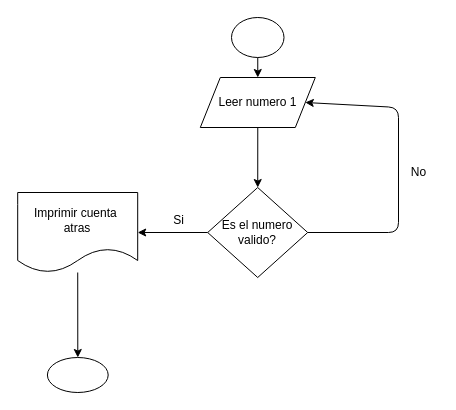
Some shapes in this 456 by 410 pixel diagram are drawn without their labels. Each missing label, with the centre of its shape:
"FIN" goes at point (77, 374).
"Inicio" goes at point (257, 37).
